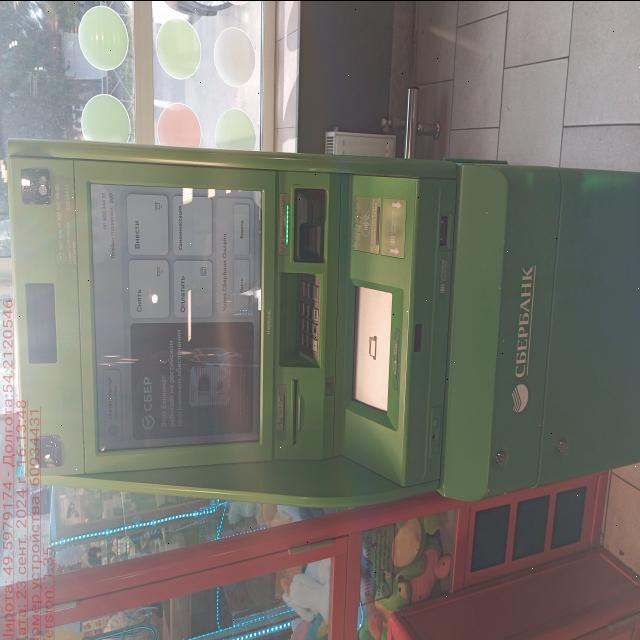bank: (2, 146, 640, 506)
